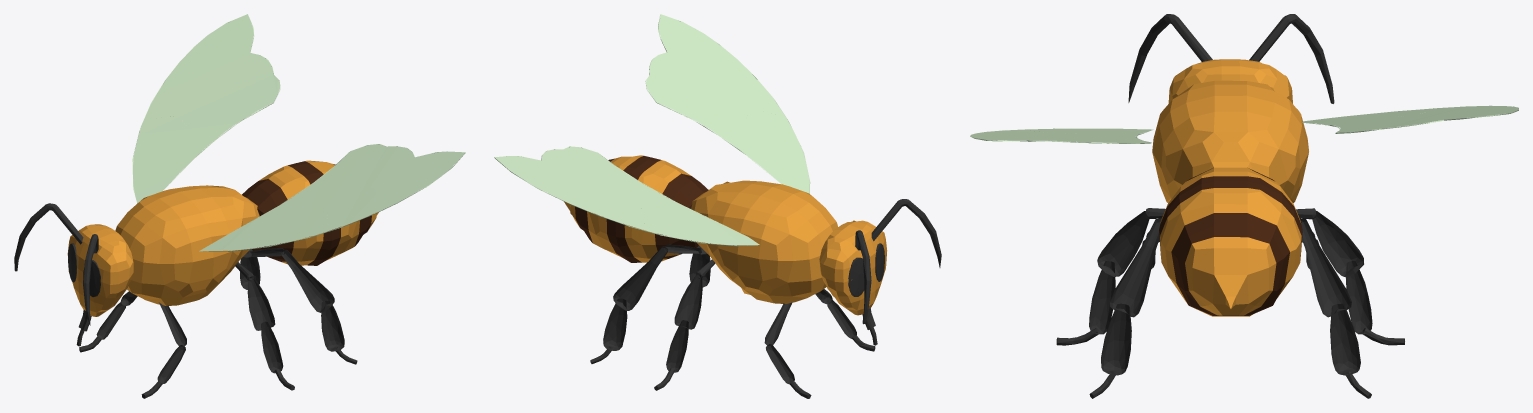
The model's file is bee.fbx.
The picture shows the model from 3 angles, left to right: view 1: azimuth 30°, elevation 25°; view 2: azimuth 150°, elevation 25°; view 3: azimuth 270°, elevation 25°; orthographic projection. The views are drawn at different scales.
Parts seen in each view (by area): view 1: bee.007; view 2: bee.007; view 3: bee.007.
Part boxes in pixels (x1,y1,x2,y2): bee.007: [14, 14, 465, 398]; bee.007: [494, 14, 941, 398]; bee.007: [970, 14, 1518, 398].
Bounding box in the file's own units: 883 × 567 × 894.
